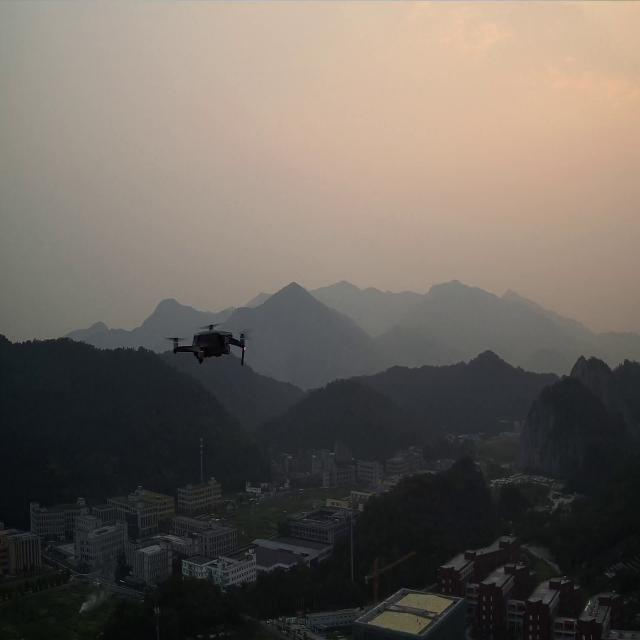UAV: (163, 319, 255, 370)
